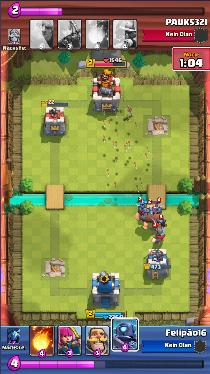ally_giant: (133, 213, 165, 229)
enemy_arrow: (103, 102, 153, 192)
enemy_knight: (150, 223, 166, 244)
enemy_mini_pekka: (154, 218, 167, 228)
enemy_minion: (137, 204, 145, 213), (155, 204, 163, 213), (146, 206, 154, 214)
